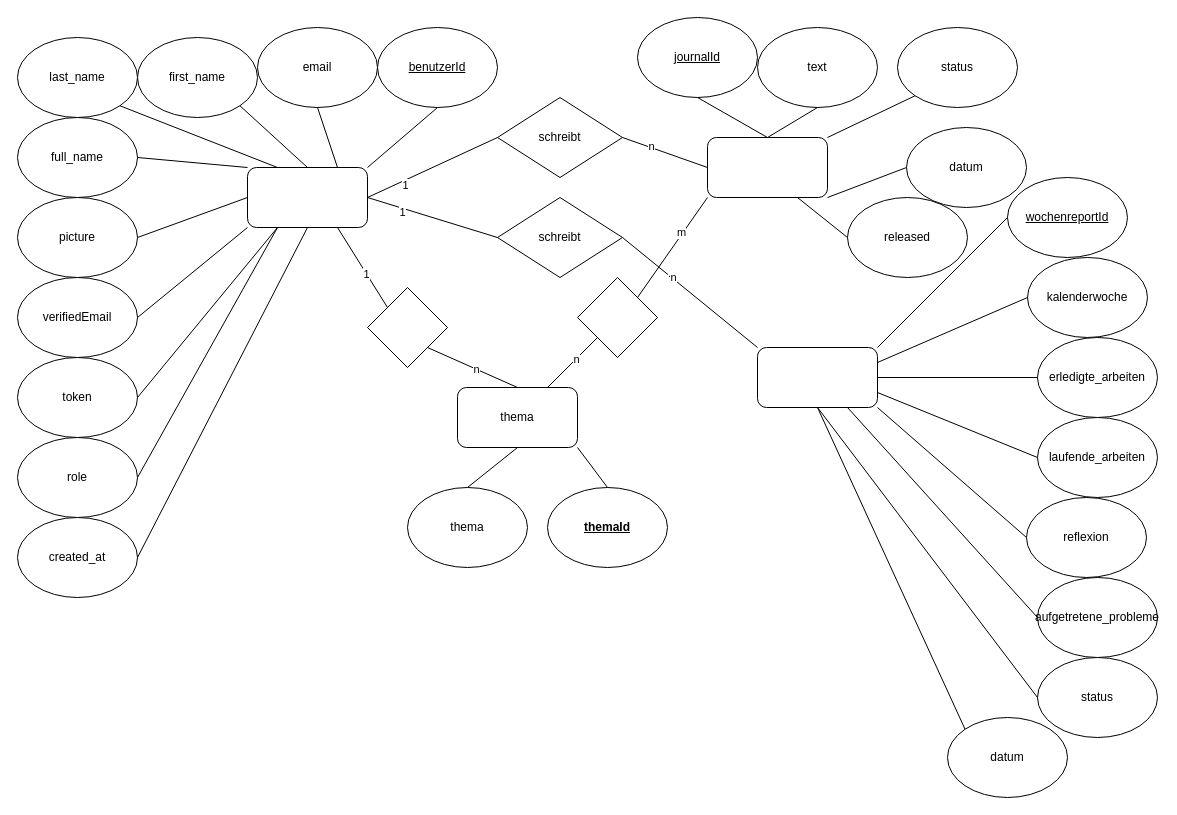
Image size: 1177x815. Some labels were removed from this diagram. Here are the shapes that lost their labels. From the top down, the centre of each, then its label:
At [767,167]: "journal".
At [307,197]: "benutzer".
At [407,327]: "erstellt".
At [617,317]: "in".
At [817,377]: "wochenreport".
